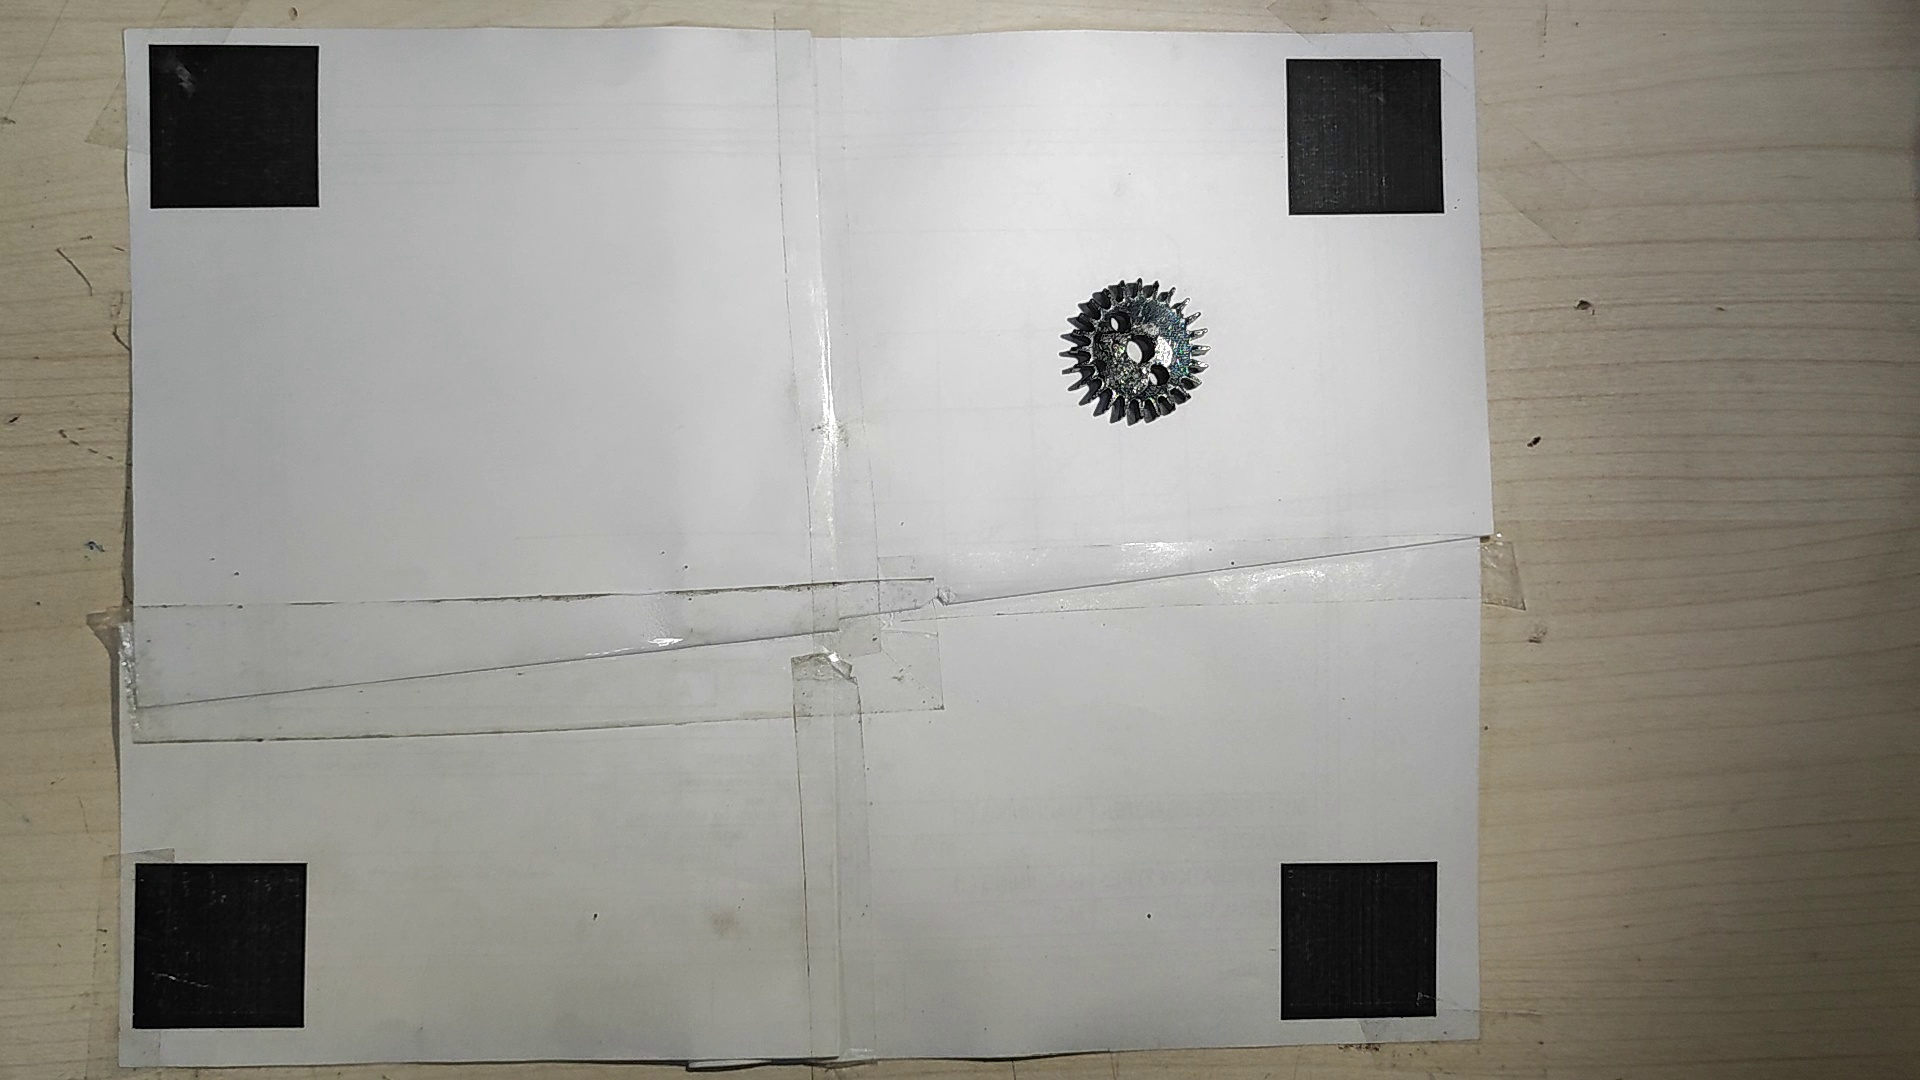Gear: (1058, 277, 1212, 427)
